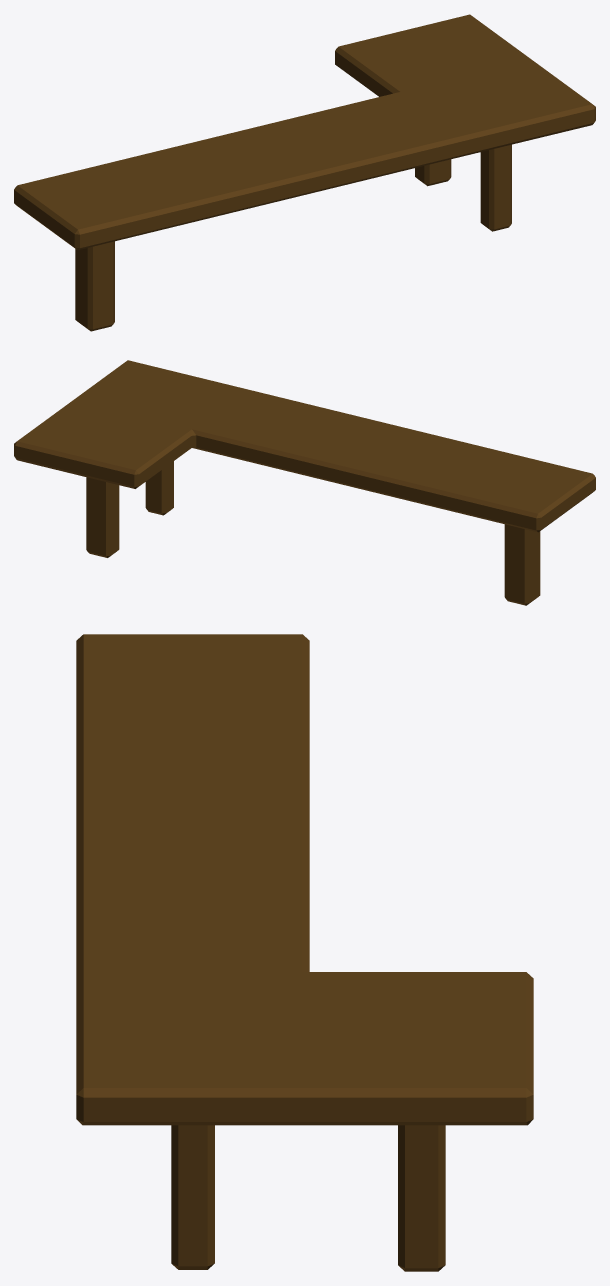
Rendered from mesa 1.fbx.
3 views of the same model, one above another, from view 1: azimuth 30°, elevation 25°; view 2: azimuth 150°, elevation 25°; view 3: azimuth 270°, elevation 25° (orthographic). The views are drawn at different scales.
Visible parts, largest first — view 1: Mesa Larga.001; view 2: Mesa Larga.001; view 3: Mesa Larga.001.
Part boxes in pixels (left/top/right/bottom): Mesa Larga.001: left=14, top=14, right=595, bottom=331; Mesa Larga.001: left=14, top=360, right=595, bottom=605; Mesa Larga.001: left=76, top=634, right=533, bottom=1271.
Bounding box in the file's own units: 303 × 71.52 × 127.
